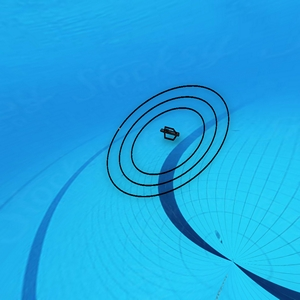circle: (105, 81, 230, 195)
submarine: (159, 126, 181, 140)
